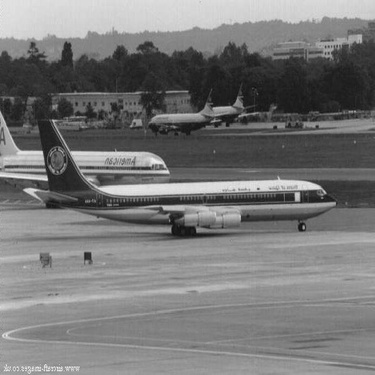airplane: (14, 109, 342, 247), (1, 102, 175, 195), (143, 84, 220, 137), (191, 84, 259, 128)
